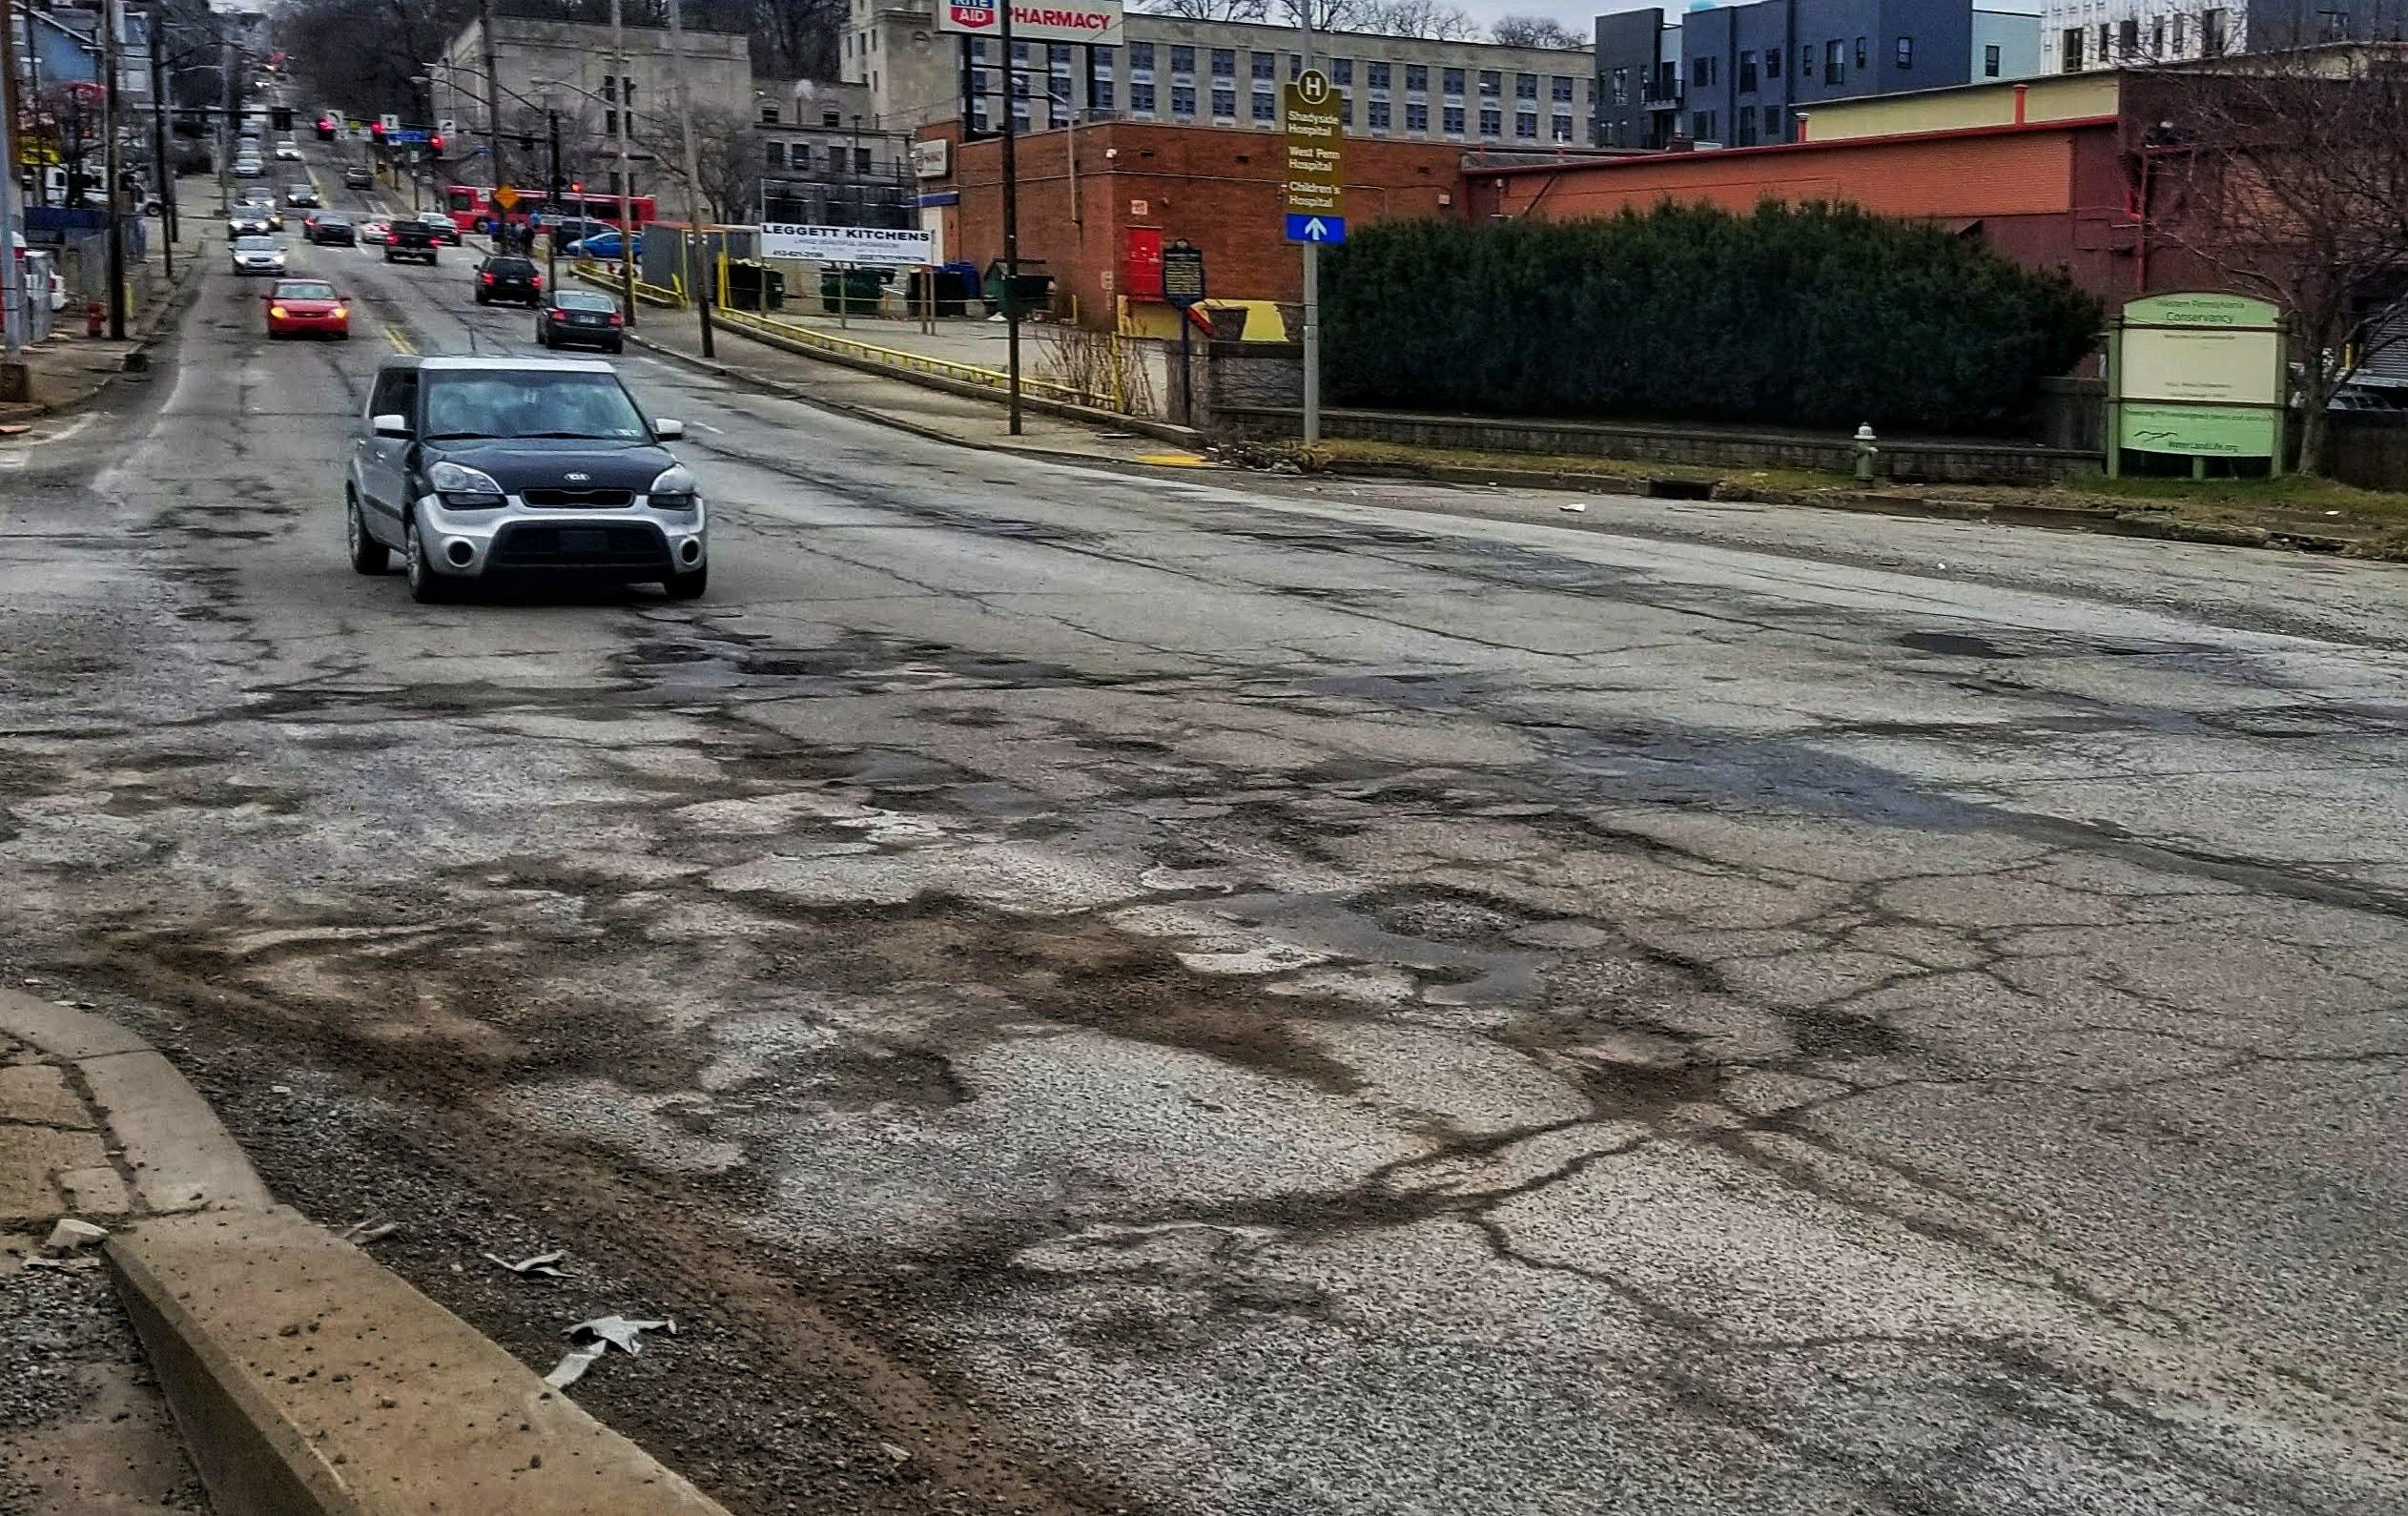pothole: (169, 796, 1379, 1247)
